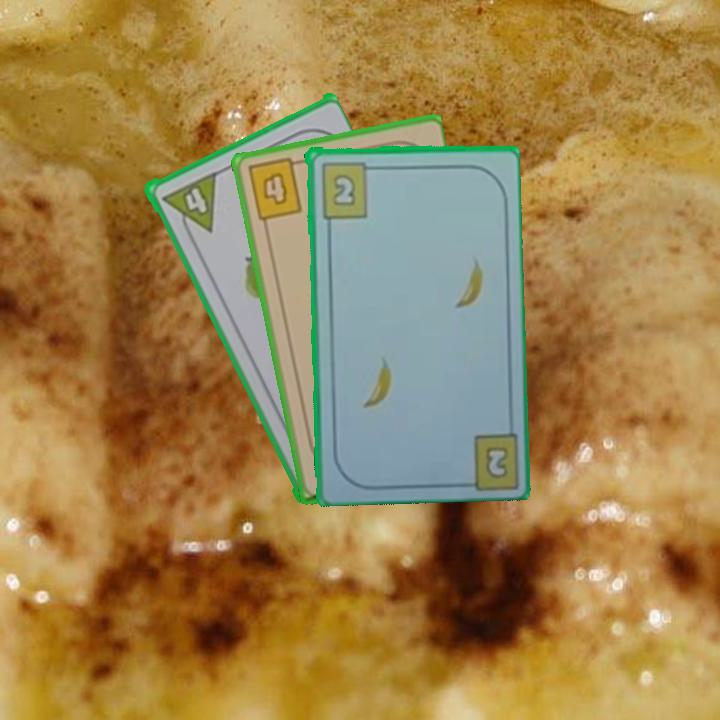2b: (317, 158, 378, 220), (481, 442, 511, 482)
4b: (244, 155, 306, 223)
4p: (157, 169, 219, 242)
